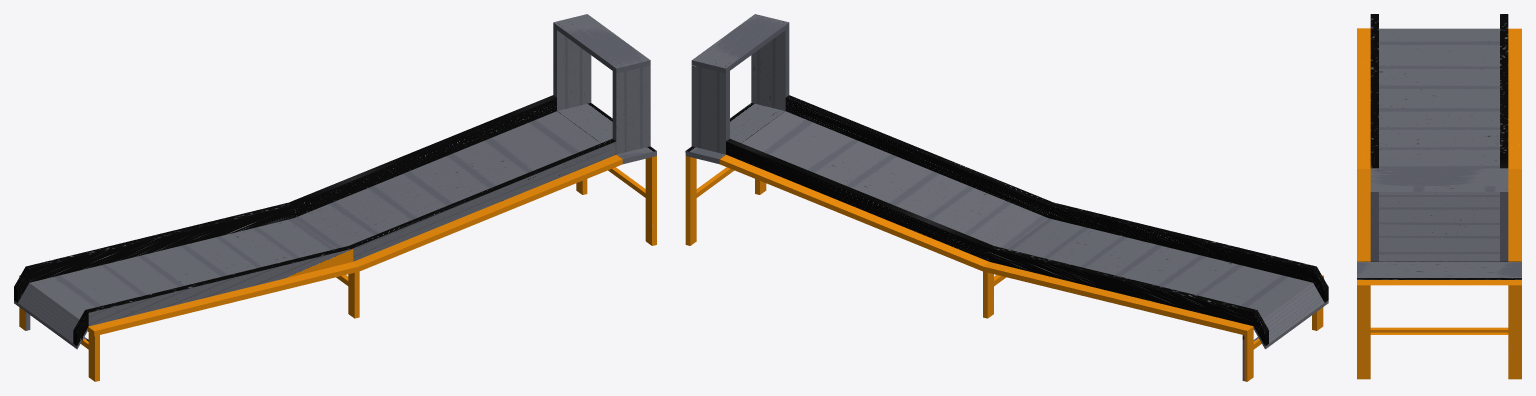
Rendered from conveyor.fbx.
The picture shows the model from 3 angles, left to right: view 1: azimuth 30°, elevation 25°; view 2: azimuth 150°, elevation 25°; view 3: azimuth 270°, elevation 25°; orthographic projection. The views are drawn at different scales.
Visible parts, largest first — view 1: 立方體.013, 立方體.011, 立方體.016, 立方體.003, 立方體.024, 立方體.018; view 2: 立方體.013, 立方體.011, 立方體.016, 立方體.003, 立方體.024, 立方體.018; view 3: 立方體.003, 立方體.016, 立方體.011, 立方體.024, 立方體.013.
Part boxes in pixels (x1,y1,x2,y2): 立方體.013: (14, 95, 616, 345); 立方體.011: (294, 111, 600, 248); 立方體.016: (19, 103, 656, 381); 立方體.003: (29, 218, 334, 326); 立方體.024: (553, 14, 650, 154); 立方體.018: (14, 283, 87, 349); 立方體.013: (726, 95, 1328, 346); 立方體.011: (742, 111, 1048, 248); 立方體.016: (685, 103, 1323, 381); 立方體.003: (1007, 218, 1312, 319); 立方體.024: (691, 14, 789, 154); 立方體.018: (1253, 283, 1328, 349); 立方體.003: (1379, 28, 1499, 168); 立方體.016: (1357, 28, 1521, 379); 立方體.011: (1379, 192, 1499, 261); 立方體.024: (1370, 168, 1508, 261); 立方體.013: (1370, 14, 1508, 168).
Bounding box in the file's own units: 588 × 176 × 135.
